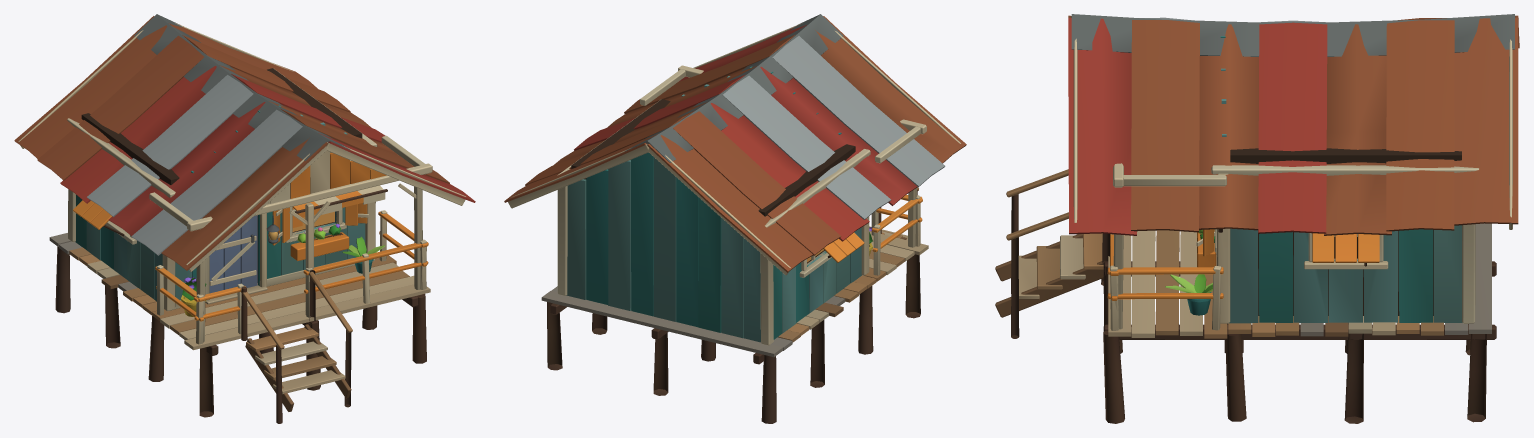
File: stilt_house_b2.glb
3 renders of one model, left to right at view 1: azimuth 30°, elevation 25°; view 2: azimuth 150°, elevation 25°; view 3: azimuth 270°, elevation 25°, orthographic. The views are drawn at different scales.
Parts seen in each view (by area): view 1: stilt_house_b2; view 2: stilt_house_b2; view 3: stilt_house_b2.
Part boxes in pixels (x1,y1,x2,y2): stilt_house_b2: [14, 14, 475, 423]; stilt_house_b2: [504, 14, 966, 423]; stilt_house_b2: [995, 14, 1519, 423].
Size of the model in its own units: 6.45 by 5.47 by 7.7.
